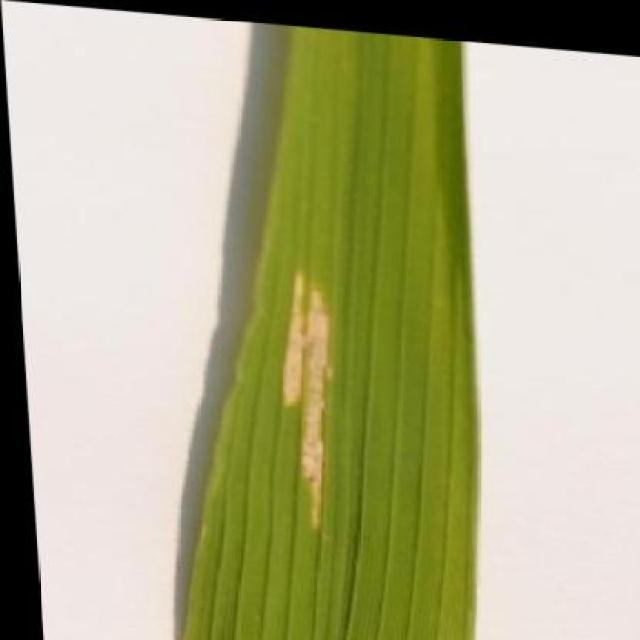Brown_Spot: (168, 29, 482, 637)
